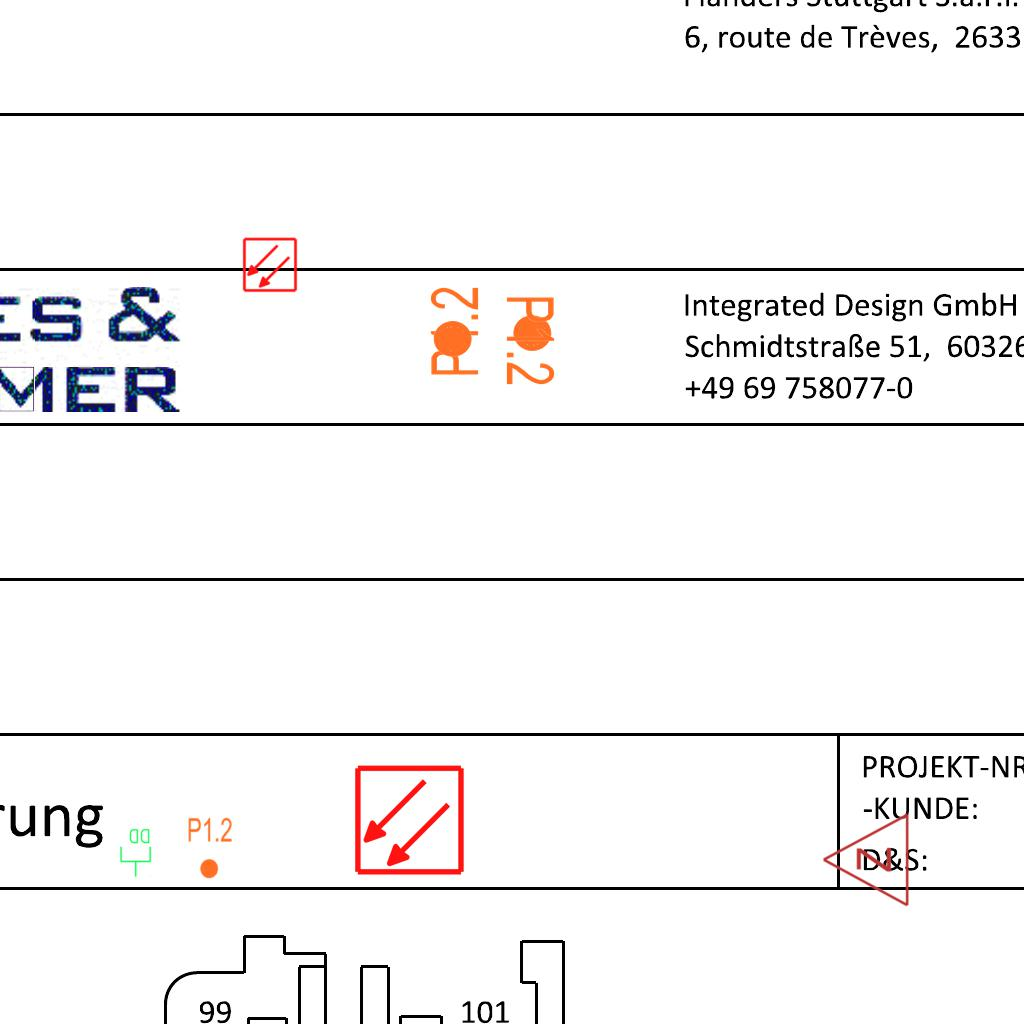Datenanschluss_zweifach: (119, 827, 153, 878)
Downlight_LED_Einbauleuchten_Flur: (427, 285, 555, 378), (430, 294, 558, 387), (187, 816, 233, 880)
RMO_Rauchmelder_optischer: (353, 764, 466, 877), (242, 237, 298, 293)
Zimmersignalleuchte: (816, 812, 916, 910)
